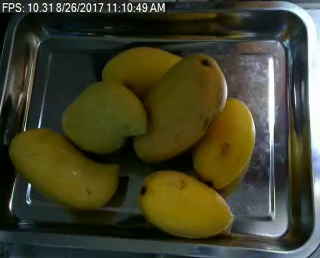Mango: (134, 49, 227, 161), (11, 125, 119, 216), (133, 169, 239, 242), (189, 93, 255, 187), (64, 81, 145, 154), (102, 41, 183, 95)
